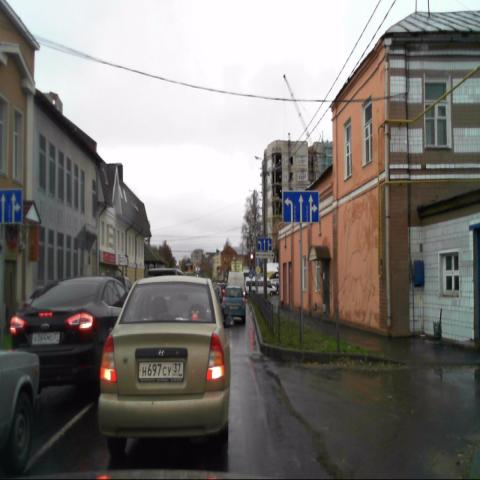5_15_1: (282, 191, 319, 223), (257, 238, 271, 251)
